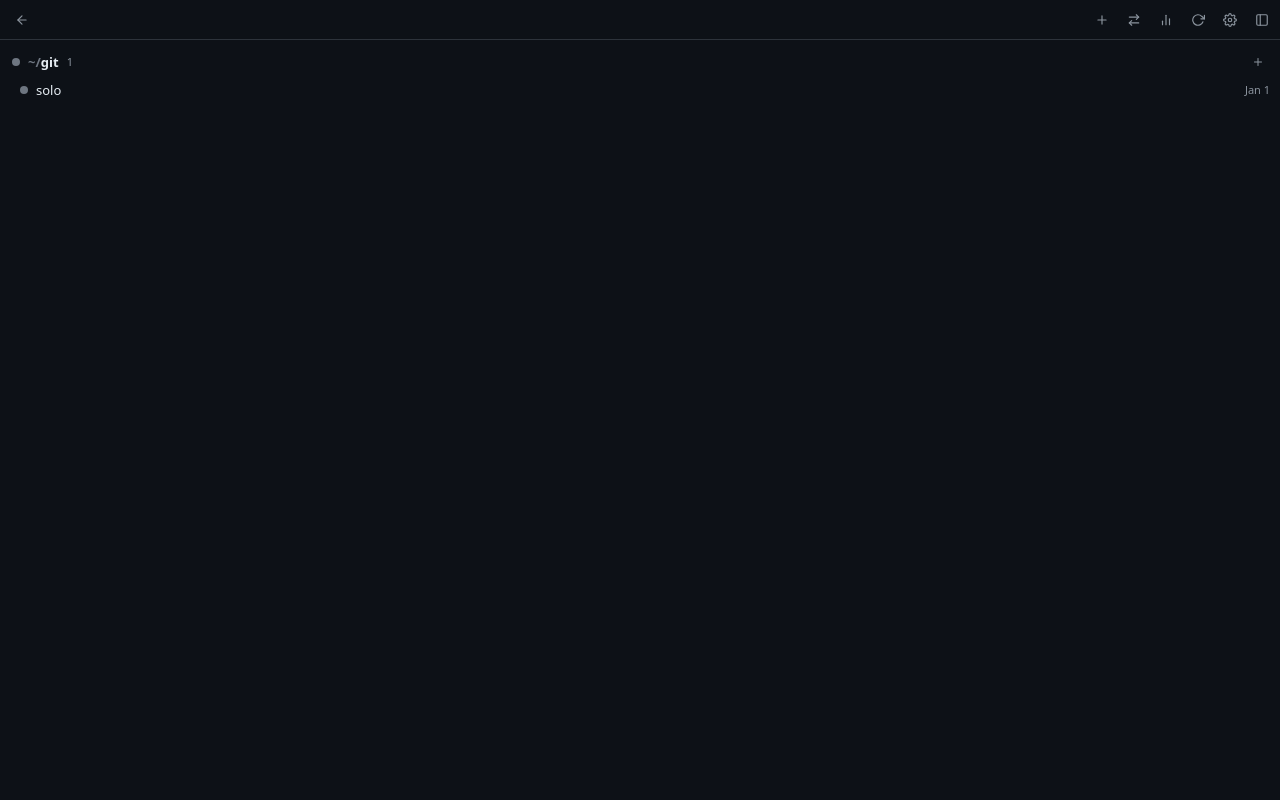
Test: SessionTree — stopping every session in a folder › asks the tab menu's own question when the folder holds one session
Right-click the button with class "dir-header": (24, 90) left=0, top=76, right=1279, bottom=104
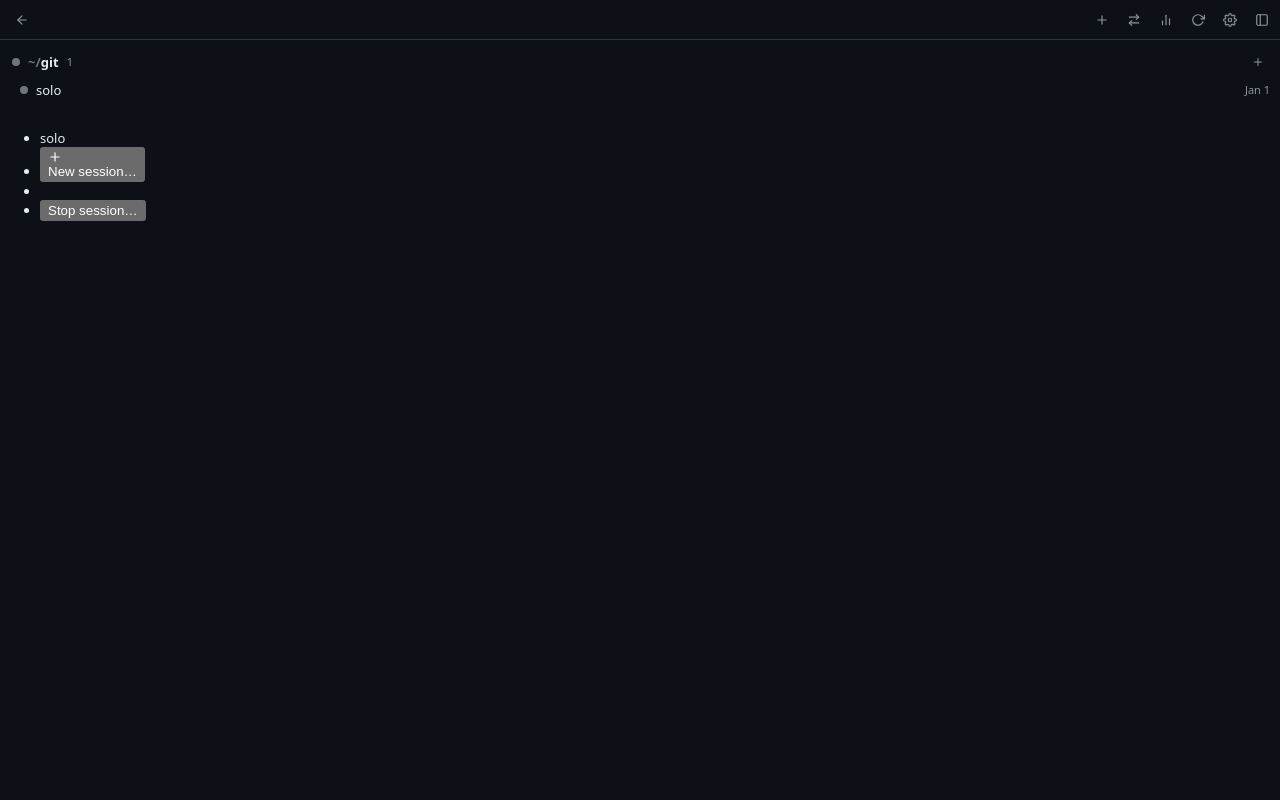
Click the button with class "danger": (93, 210) left=40, top=200, right=146, bottom=221
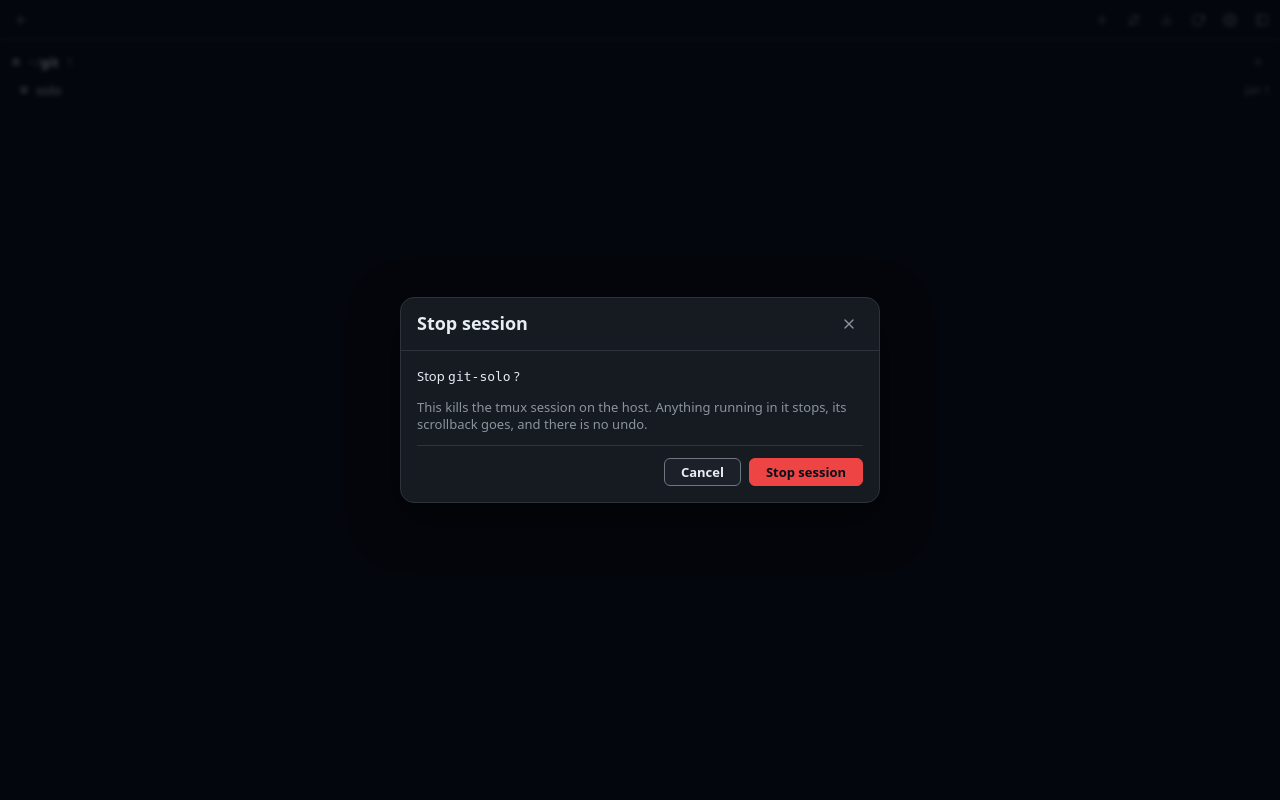
Now the element showing "Stop git-solo ?" is shown, box left=417, top=366, right=520, bottom=384
Now the button with class "btn-danger" reads "Stop session", box left=749, top=458, right=863, bottom=486
